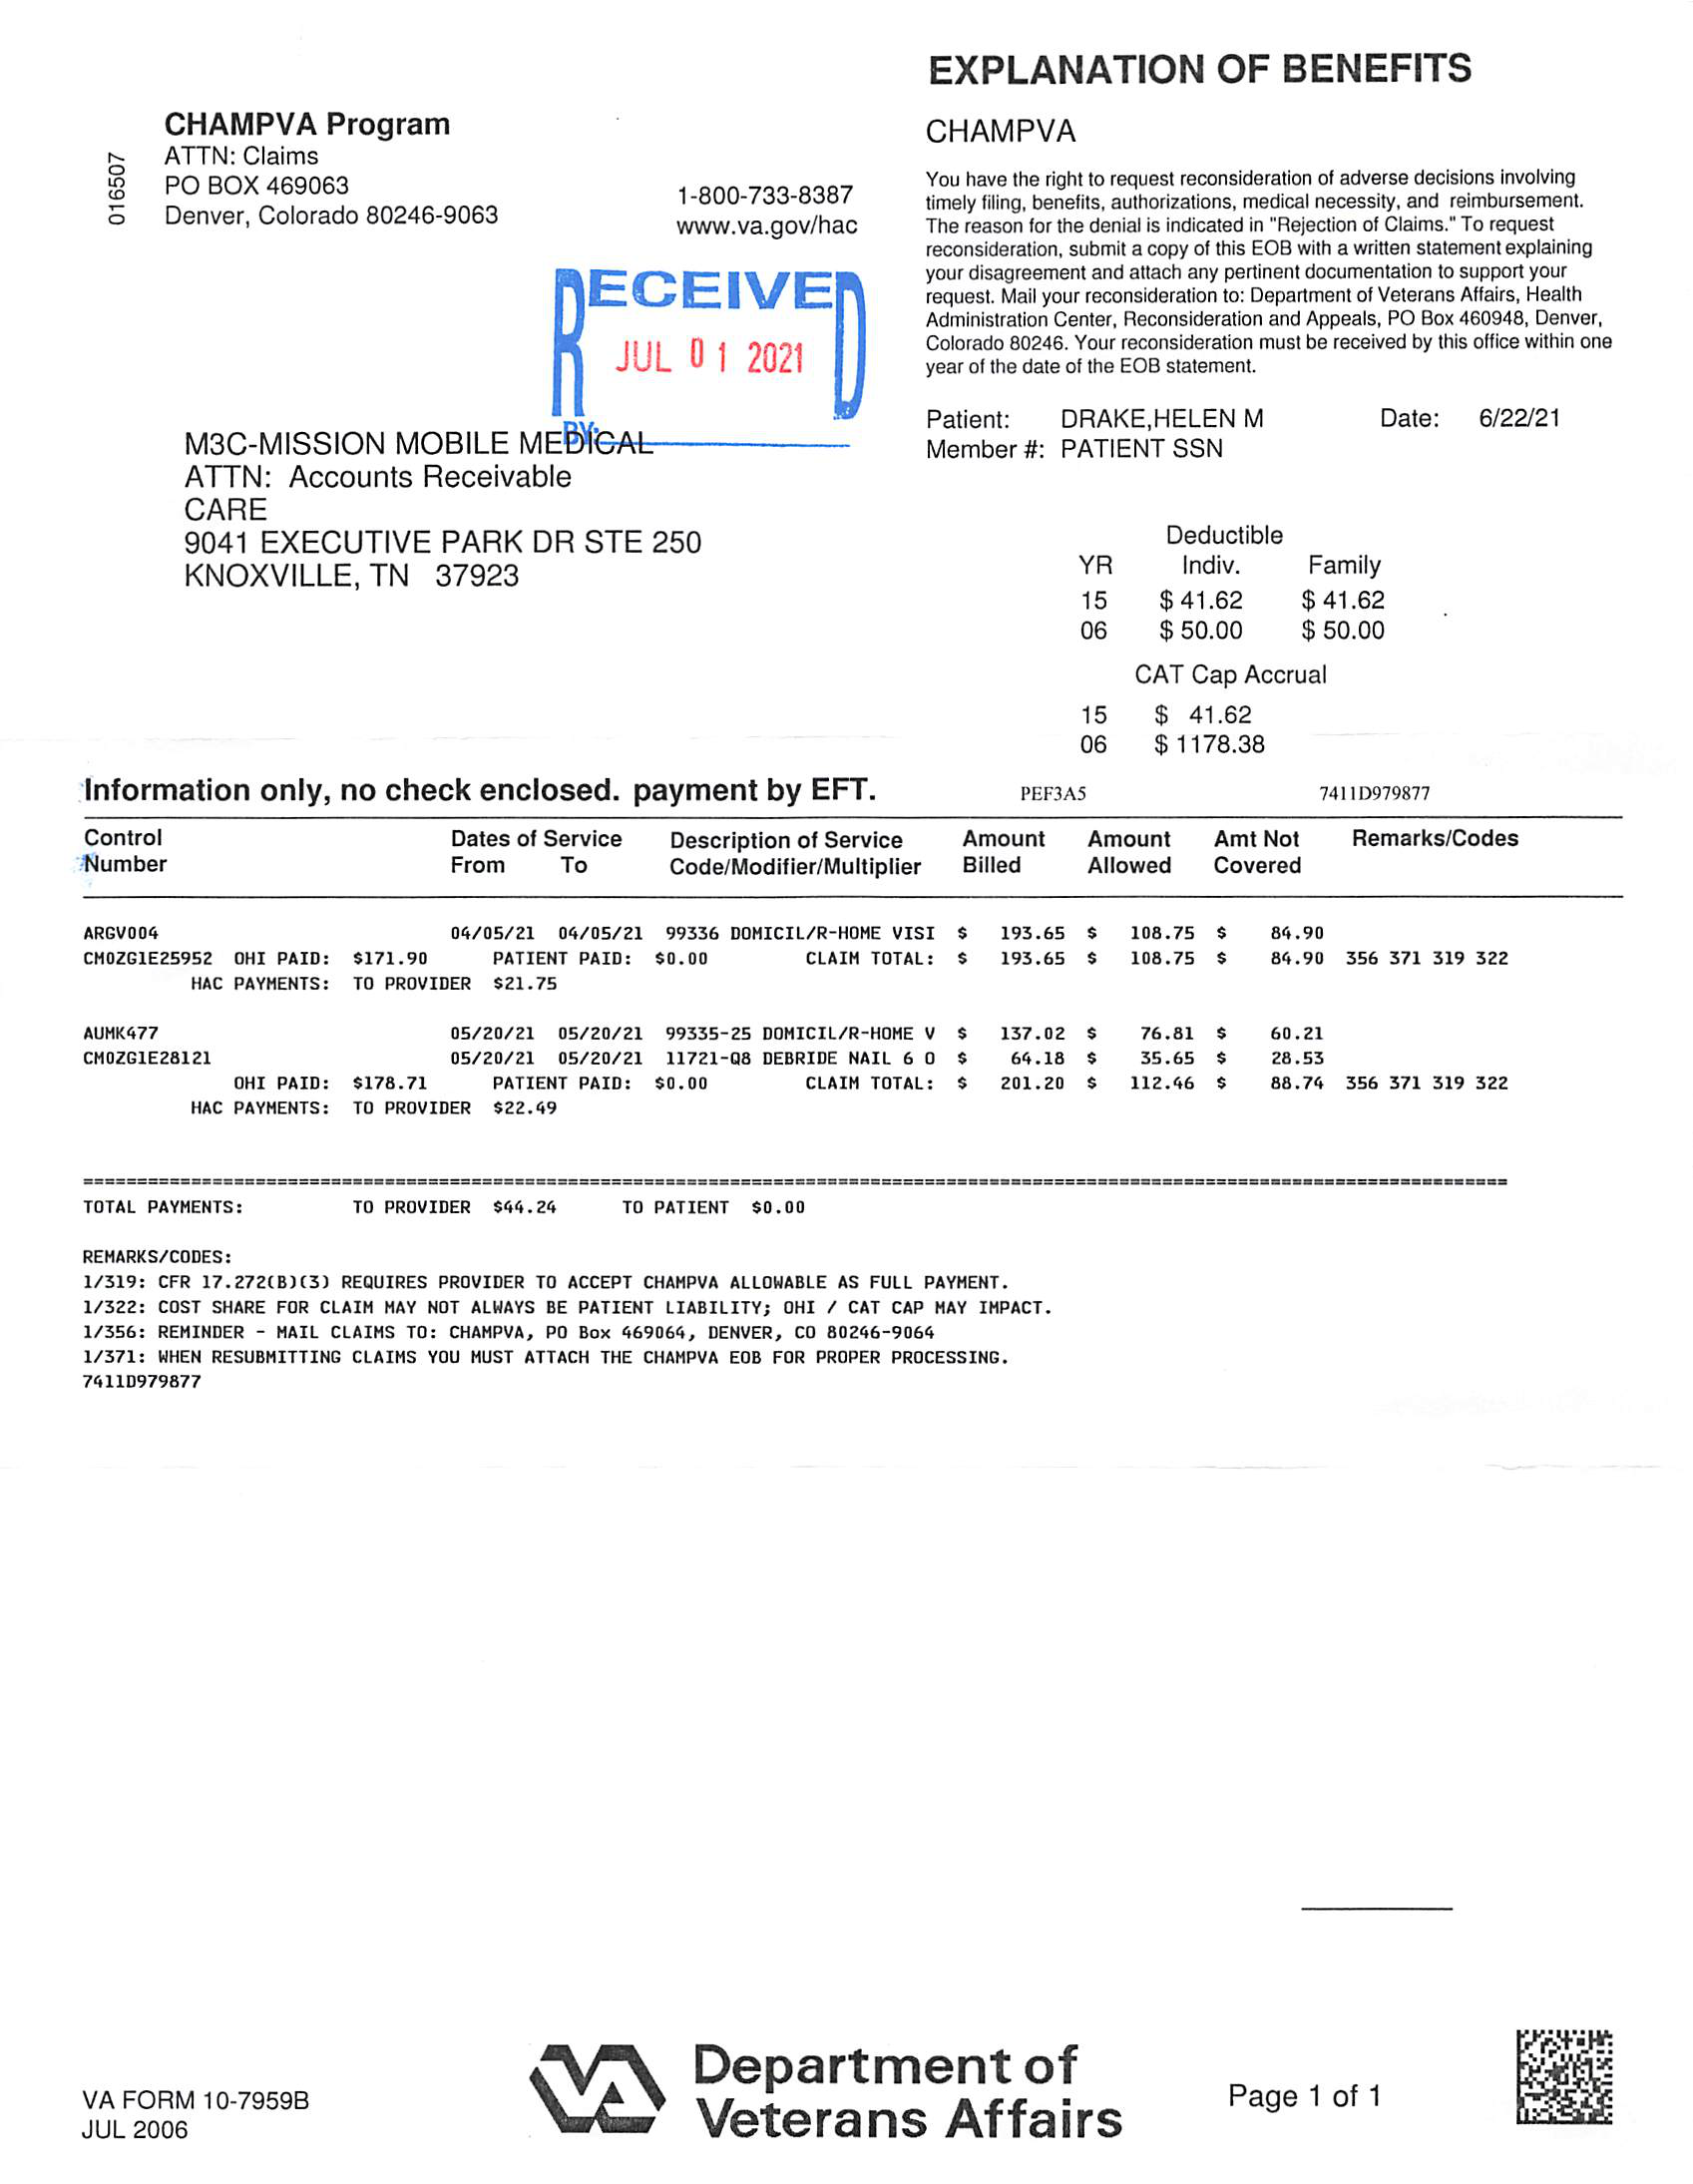data: (917, 399, 1585, 489)
table: (66, 805, 1638, 1129)
